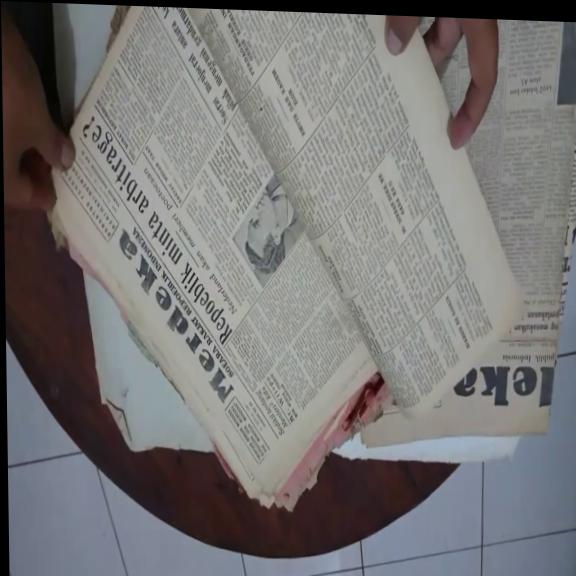Kertas: (50, 7, 520, 509), (356, 19, 576, 454)
